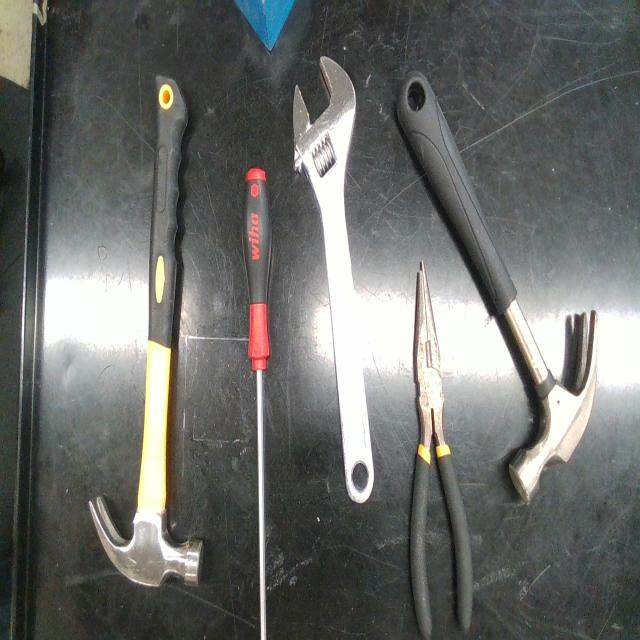Screwdriver: (242, 169, 271, 640)
